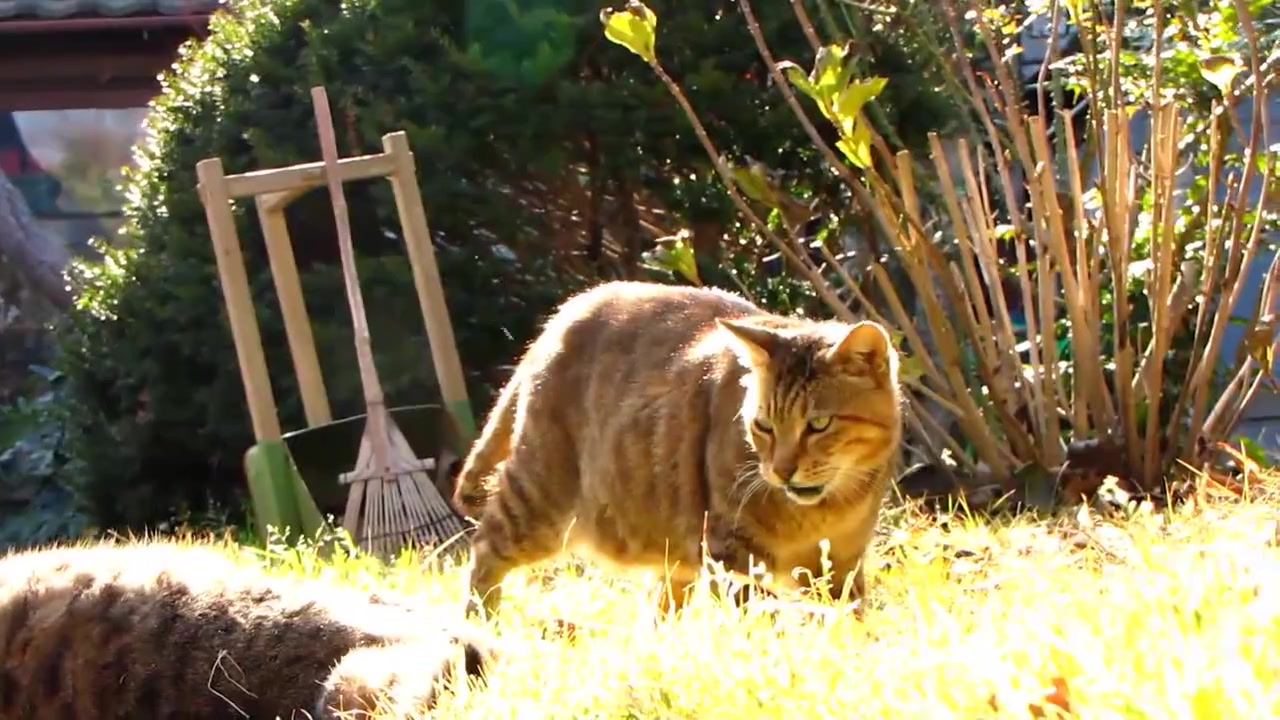cat: (453, 284, 908, 628), (1, 548, 492, 720)
